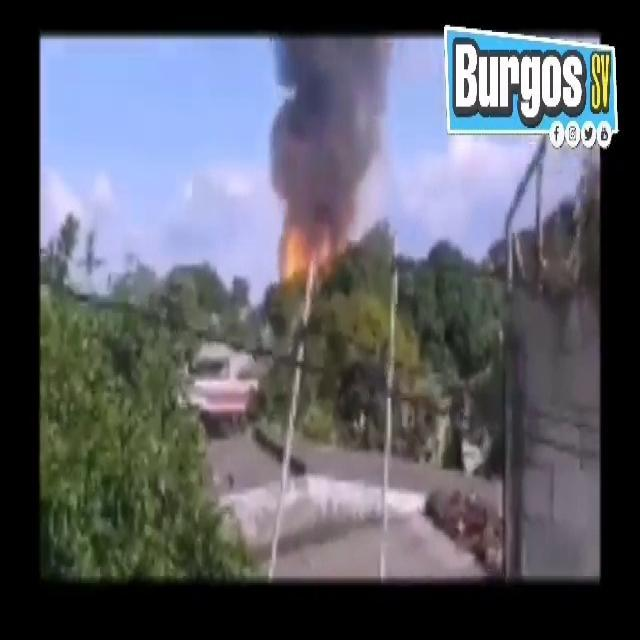Fire: (282, 222, 318, 298)
Smoke: (261, 40, 381, 236)
